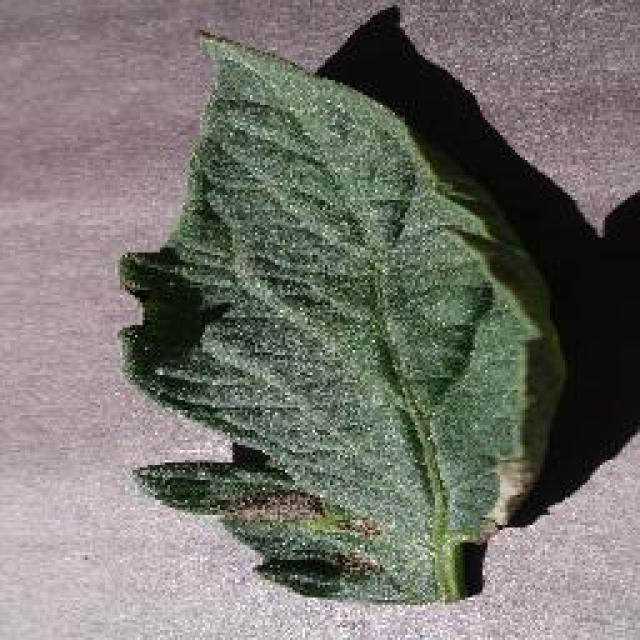Tomato Early blight leaf: (130, 17, 542, 605)
